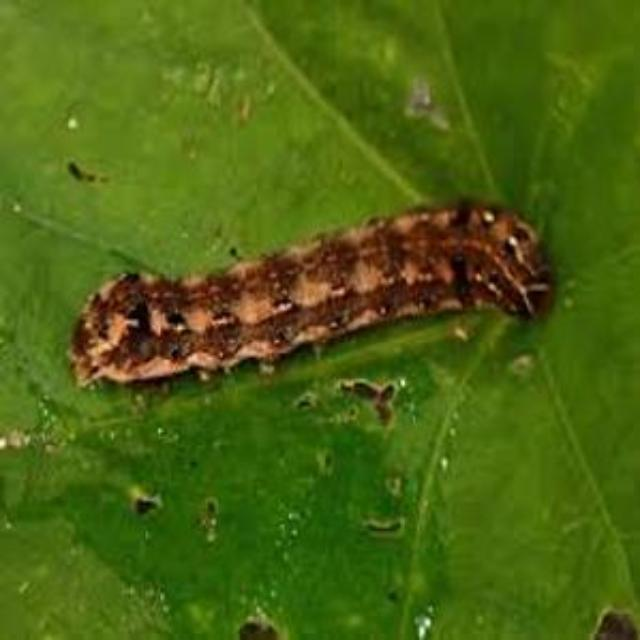Tobacco cutworm: (31, 138, 594, 460)
